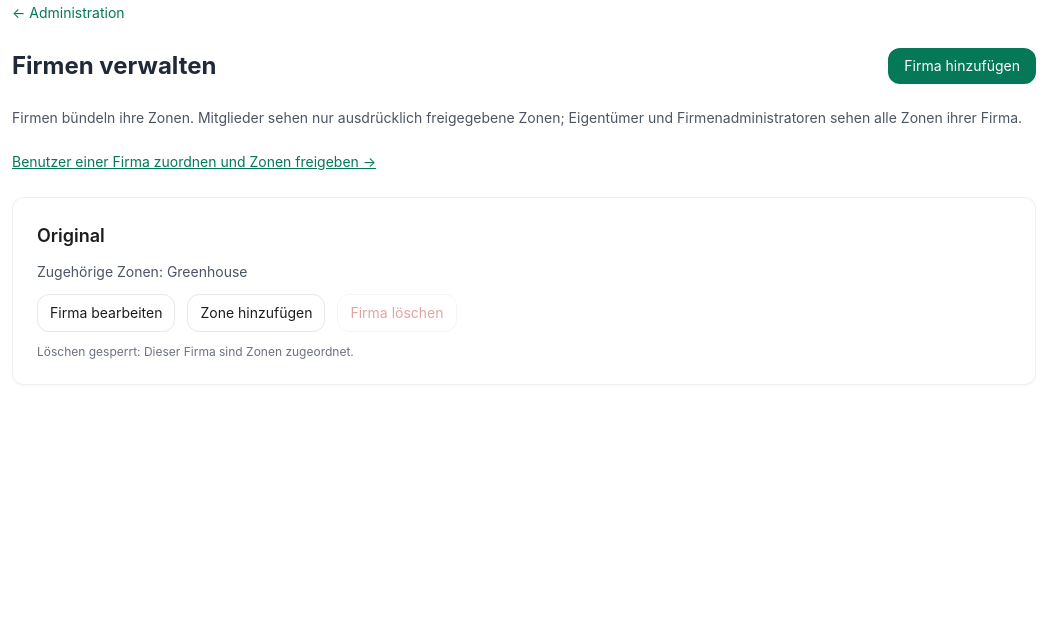
Test: company editing changes the name without editing zone assignments
Step 1. Click the button "Firma bearbeiten" → point(106, 313), box [37,294,175,332]
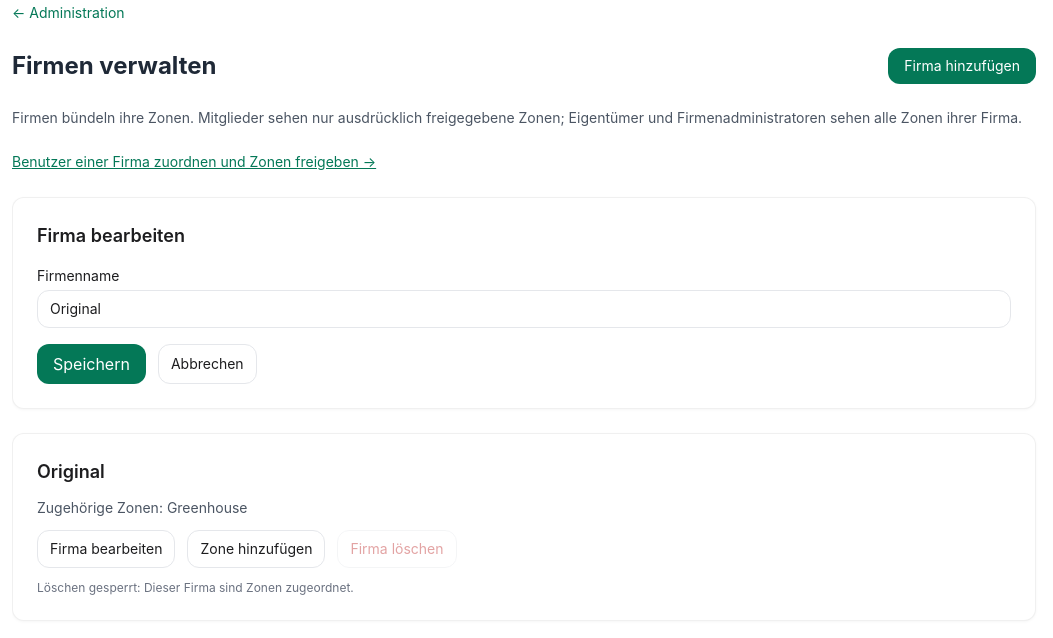
Step 2. Replace the text in the field labelled "Firmenname" with "Renamed" → point(524, 309), box [37,290,1011,328]
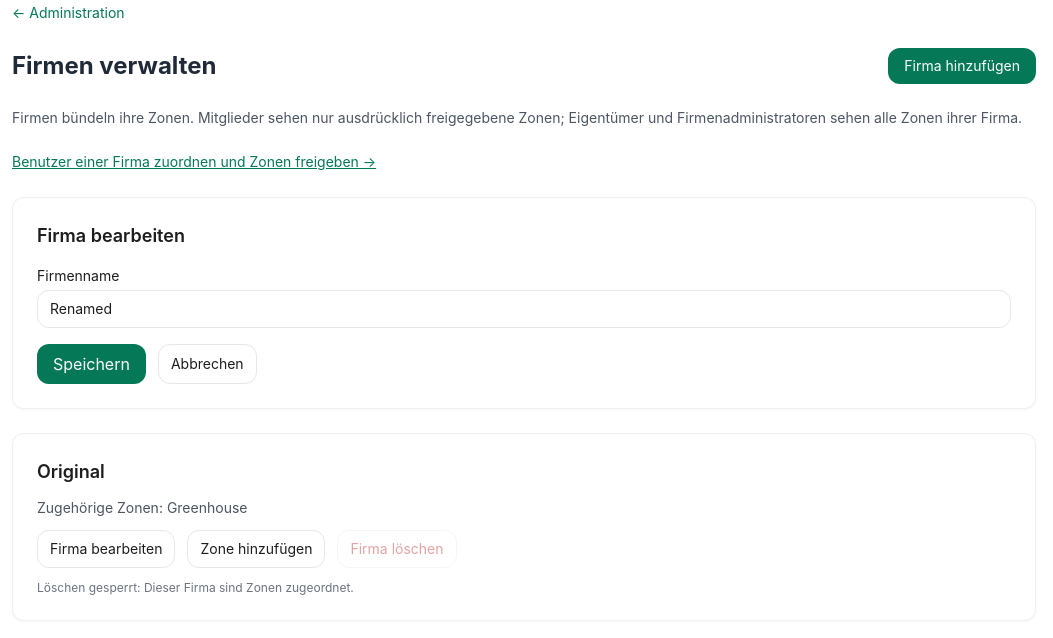
Step 3. Click the button "Speichern" → point(91, 364), box [37,344,146,384]
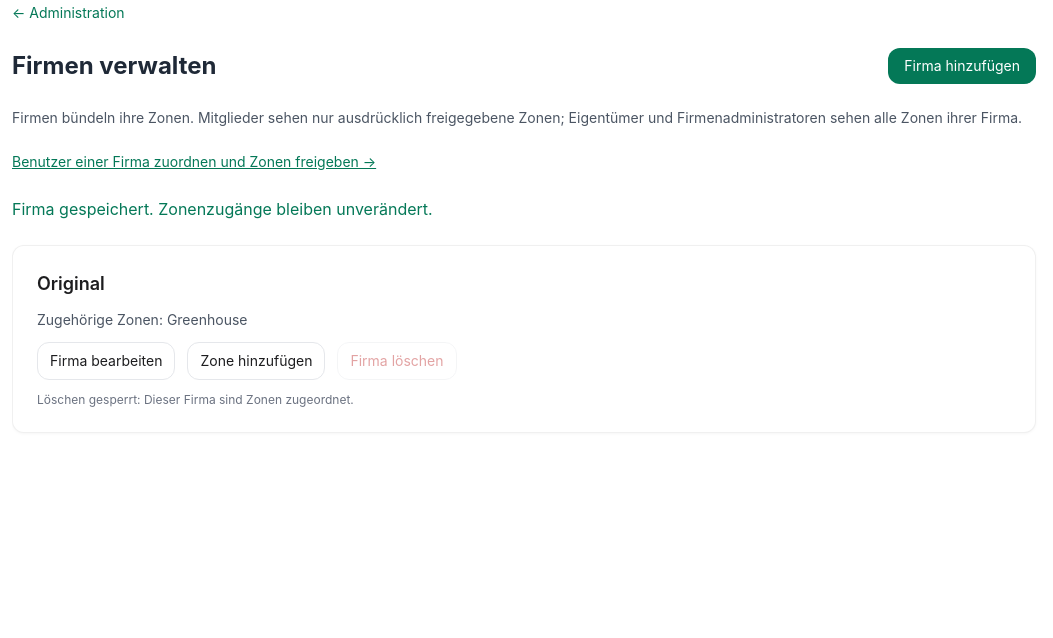
expect the text "Firma gespeichert. Zonenzugänge bleiben unverändert." is shown: met, box [12,199,433,219]
